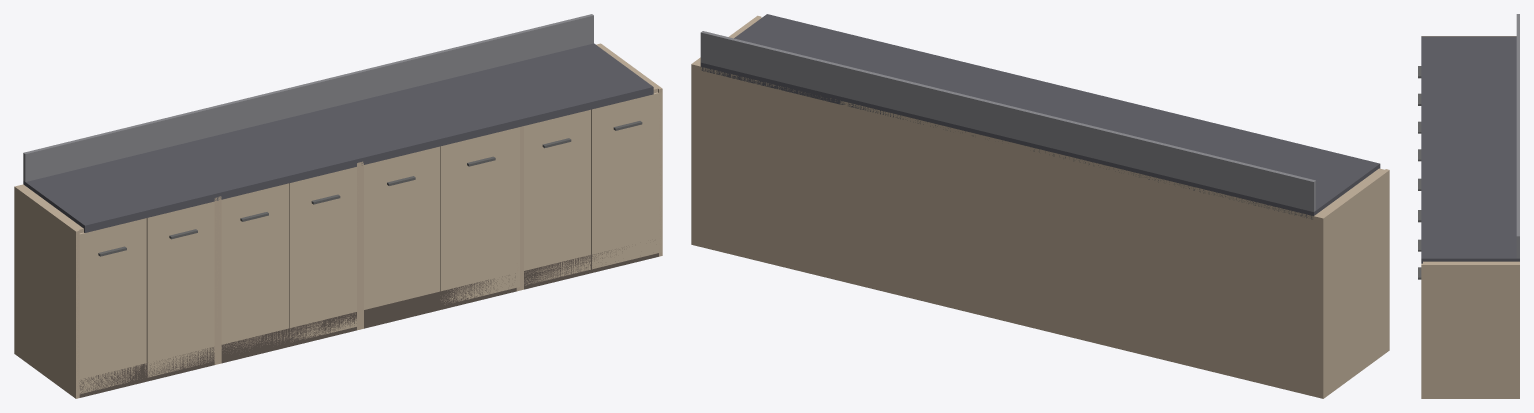
3 views of the same model, side by side, from view 1: azimuth 30°, elevation 25°; view 2: azimuth 150°, elevation 25°; view 3: azimuth 270°, elevation 25° (orthographic). The views are drawn at different scales.
Parts seen in each view (by area): view 1: Countertop, Backsplash, Lower_Cabinet_Sink_Door_Right, Lower_Cabinet_4_Door_Right, Lower_Cabinet_1_Left_Side, Lower_Cabinet_Sink_Door_Left, Lower_Cabinet_1_Door_Right, Lower_Cabinet_1_Door_Left, Lower_Cabinet_2_Door_Right, Lower_Cabinet_4_Door_Left, Lower_Cabinet_2_Door_Left, Lower_Cabinet_2_Toe_Kick (+8 smaller); view 2: Lower_Cabinet_Sink_Back, Lower_Cabinet_1_Back, Lower_Cabinet_2_Back, Lower_Cabinet_4_Back, Countertop, Backsplash, Lower_Cabinet_1_Left_Side, Lower_Cabinet_4_Left_Side, Lower_Cabinet_2_Left_Side, Lower_Cabinet_1_Right_Side; view 3: Countertop, Lower_Cabinet_4_Right_Side, Backsplash, Lower_Cabinet_4_Back, Lower_Cabinet_4_Top.
Part boxes in pixels (x1=…): Countertop: x1=23, y1=43, x2=653, y2=232; Backsplash: x1=23, y1=14, x2=593, y2=181; Lower_Cabinet_Sink_Door_Right: x1=440, y1=127, x2=519, y2=304; Lower_Cabinet_4_Door_Right: x1=591, y1=92, x2=661, y2=269; Lower_Cabinet_1_Left_Side: x1=14, y1=185, x2=79, y2=398; Lower_Cabinet_Sink_Door_Left: x1=364, y1=146, x2=439, y2=309; Lower_Cabinet_1_Door_Right: x1=146, y1=201, x2=217, y2=377; Lower_Cabinet_1_Door_Left: x1=76, y1=218, x2=146, y2=394; Lower_Cabinet_2_Door_Right: x1=289, y1=167, x2=356, y2=342; Lower_Cabinet_4_Door_Left: x1=524, y1=109, x2=590, y2=285; Lower_Cabinet_2_Door_Left: x1=218, y1=183, x2=288, y2=351; Lower_Cabinet_2_Toe_Kick: x1=221, y1=312, x2=356, y2=363; Lower_Cabinet_Sink_Back: x1=844, y1=103, x2=1016, y2=323; Lower_Cabinet_1_Back: x1=1170, y1=181, x2=1325, y2=398; Lower_Cabinet_2_Back: x1=1017, y1=144, x2=1170, y2=361; Lower_Cabinet_4_Back: x1=691, y1=63, x2=840, y2=280; Countertop: x1=700, y1=14, x2=1380, y2=219; Backsplash: x1=700, y1=31, x2=1315, y2=211; Lower_Cabinet_1_Left_Side: x1=1319, y1=169, x2=1389, y2=398; Lower_Cabinet_4_Left_Side: x1=840, y1=101, x2=844, y2=281; Lower_Cabinet_2_Left_Side: x1=1166, y1=180, x2=1170, y2=361; Lower_Cabinet_1_Right_Side: x1=1170, y1=181, x2=1173, y2=362; Countertop: x1=1421, y1=36, x2=1519, y2=263; Lower_Cabinet_4_Right_Side: x1=1421, y1=263, x2=1519, y2=398; Backsplash: x1=1516, y1=14, x2=1519, y2=258; Lower_Cabinet_4_Back: x1=1516, y1=261, x2=1519, y2=398; Lower_Cabinet_4_Top: x1=1423, y1=261, x2=1517, y2=263.
Size of the model in its own units: 3.3 by 1.07 by 0.62.
